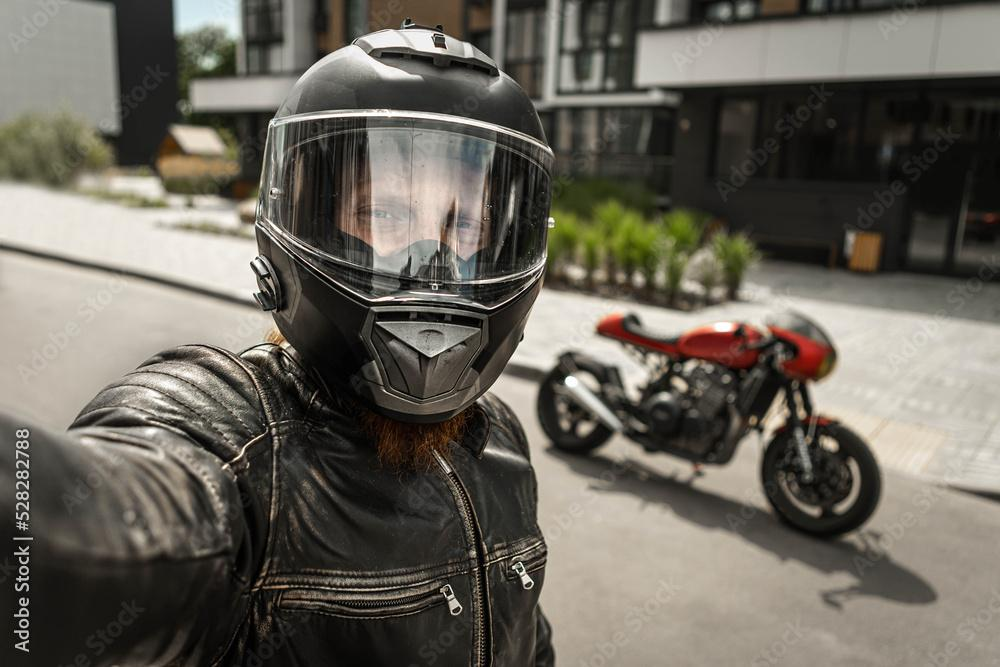helmet: (249, 15, 559, 426)
